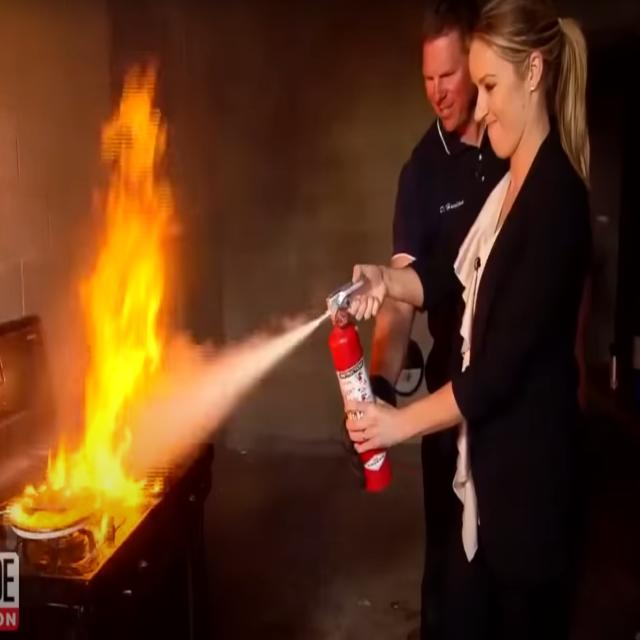Fire: (6, 49, 186, 536)
